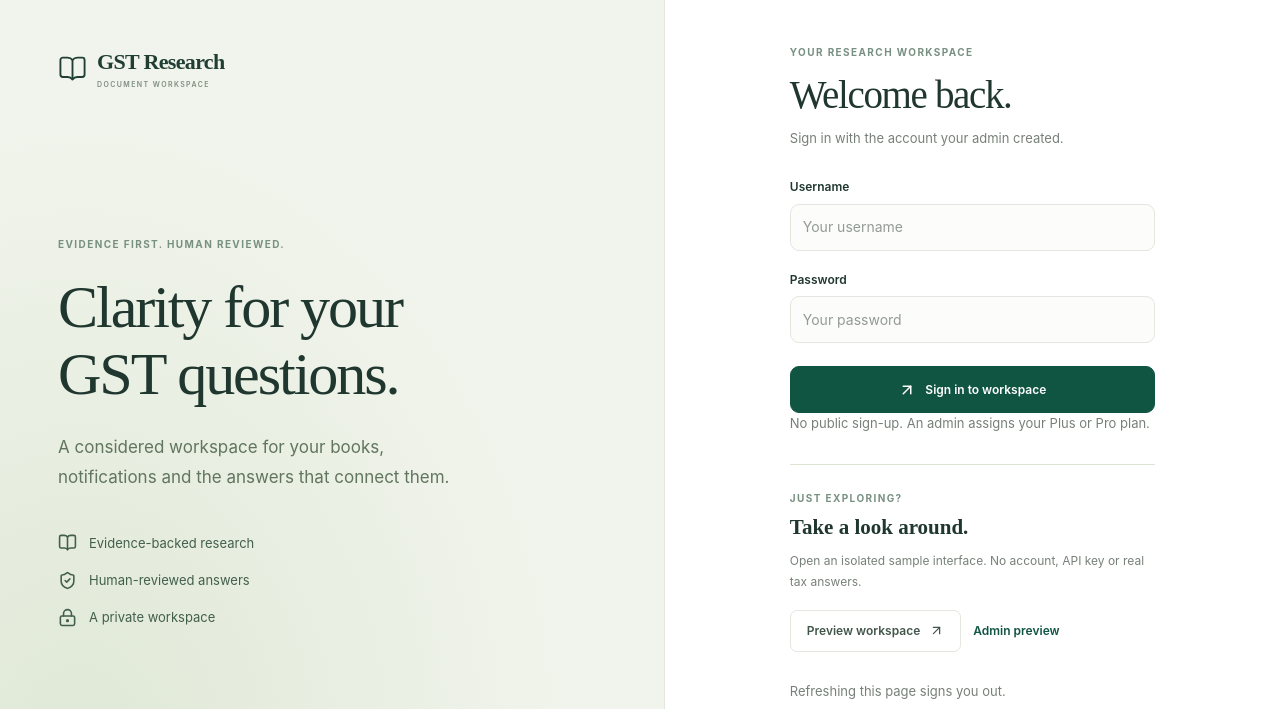
it: User workspace › shows login and a clearly labelled, no-network sample preview
What coordinates should you click on to do the following:
click the button "Preview workspace"
I would click on:
 (876, 631)
Its box is [790,610,961,652].
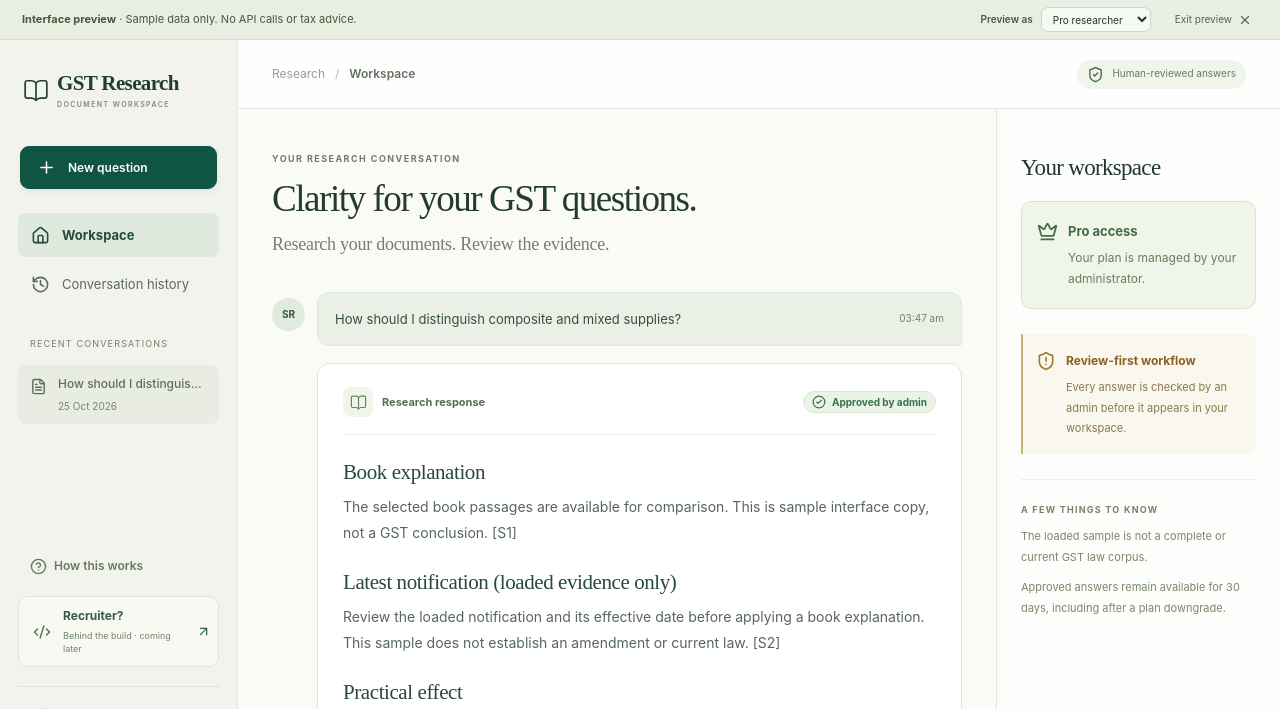
Result: the text "Sample data only" is shown at [116,12,357,26]
Result: the heading "Clarity for your GST questions." is shown at [272,178,696,219]
